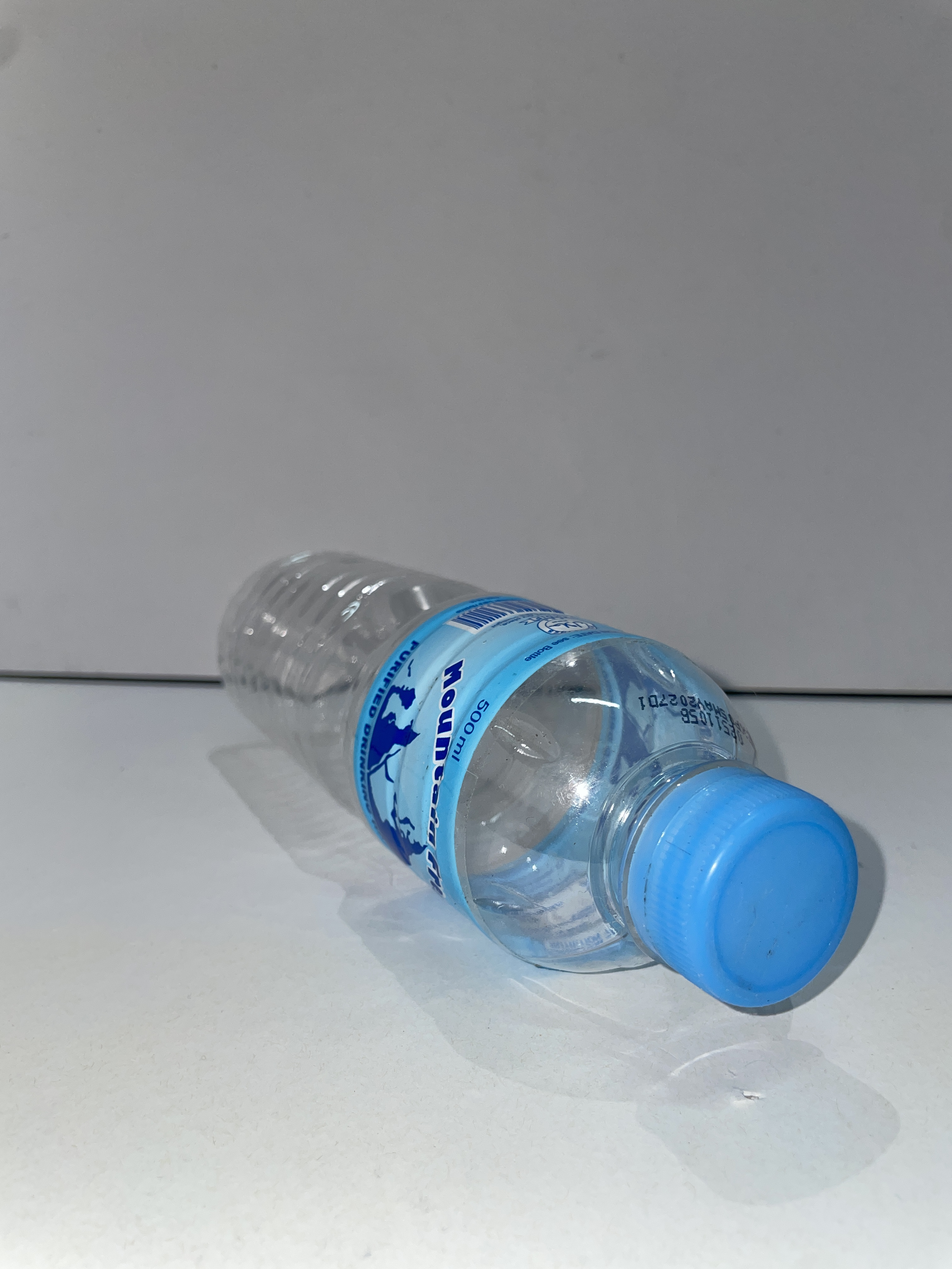Mountain Fresh 500ml: (218, 552, 856, 1005)
